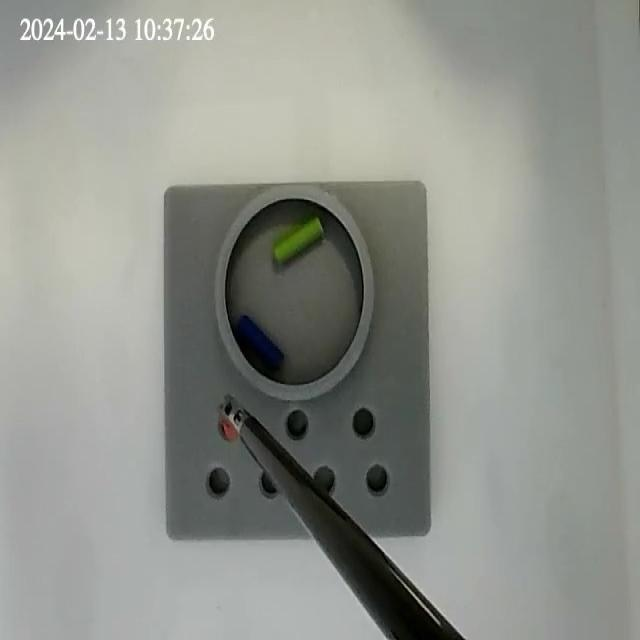EmptyHole: (258, 462, 290, 498), (351, 402, 375, 442), (364, 461, 391, 496), (284, 406, 310, 441), (312, 462, 337, 498), (206, 465, 233, 497)
FilledHole: (214, 398, 244, 446)
